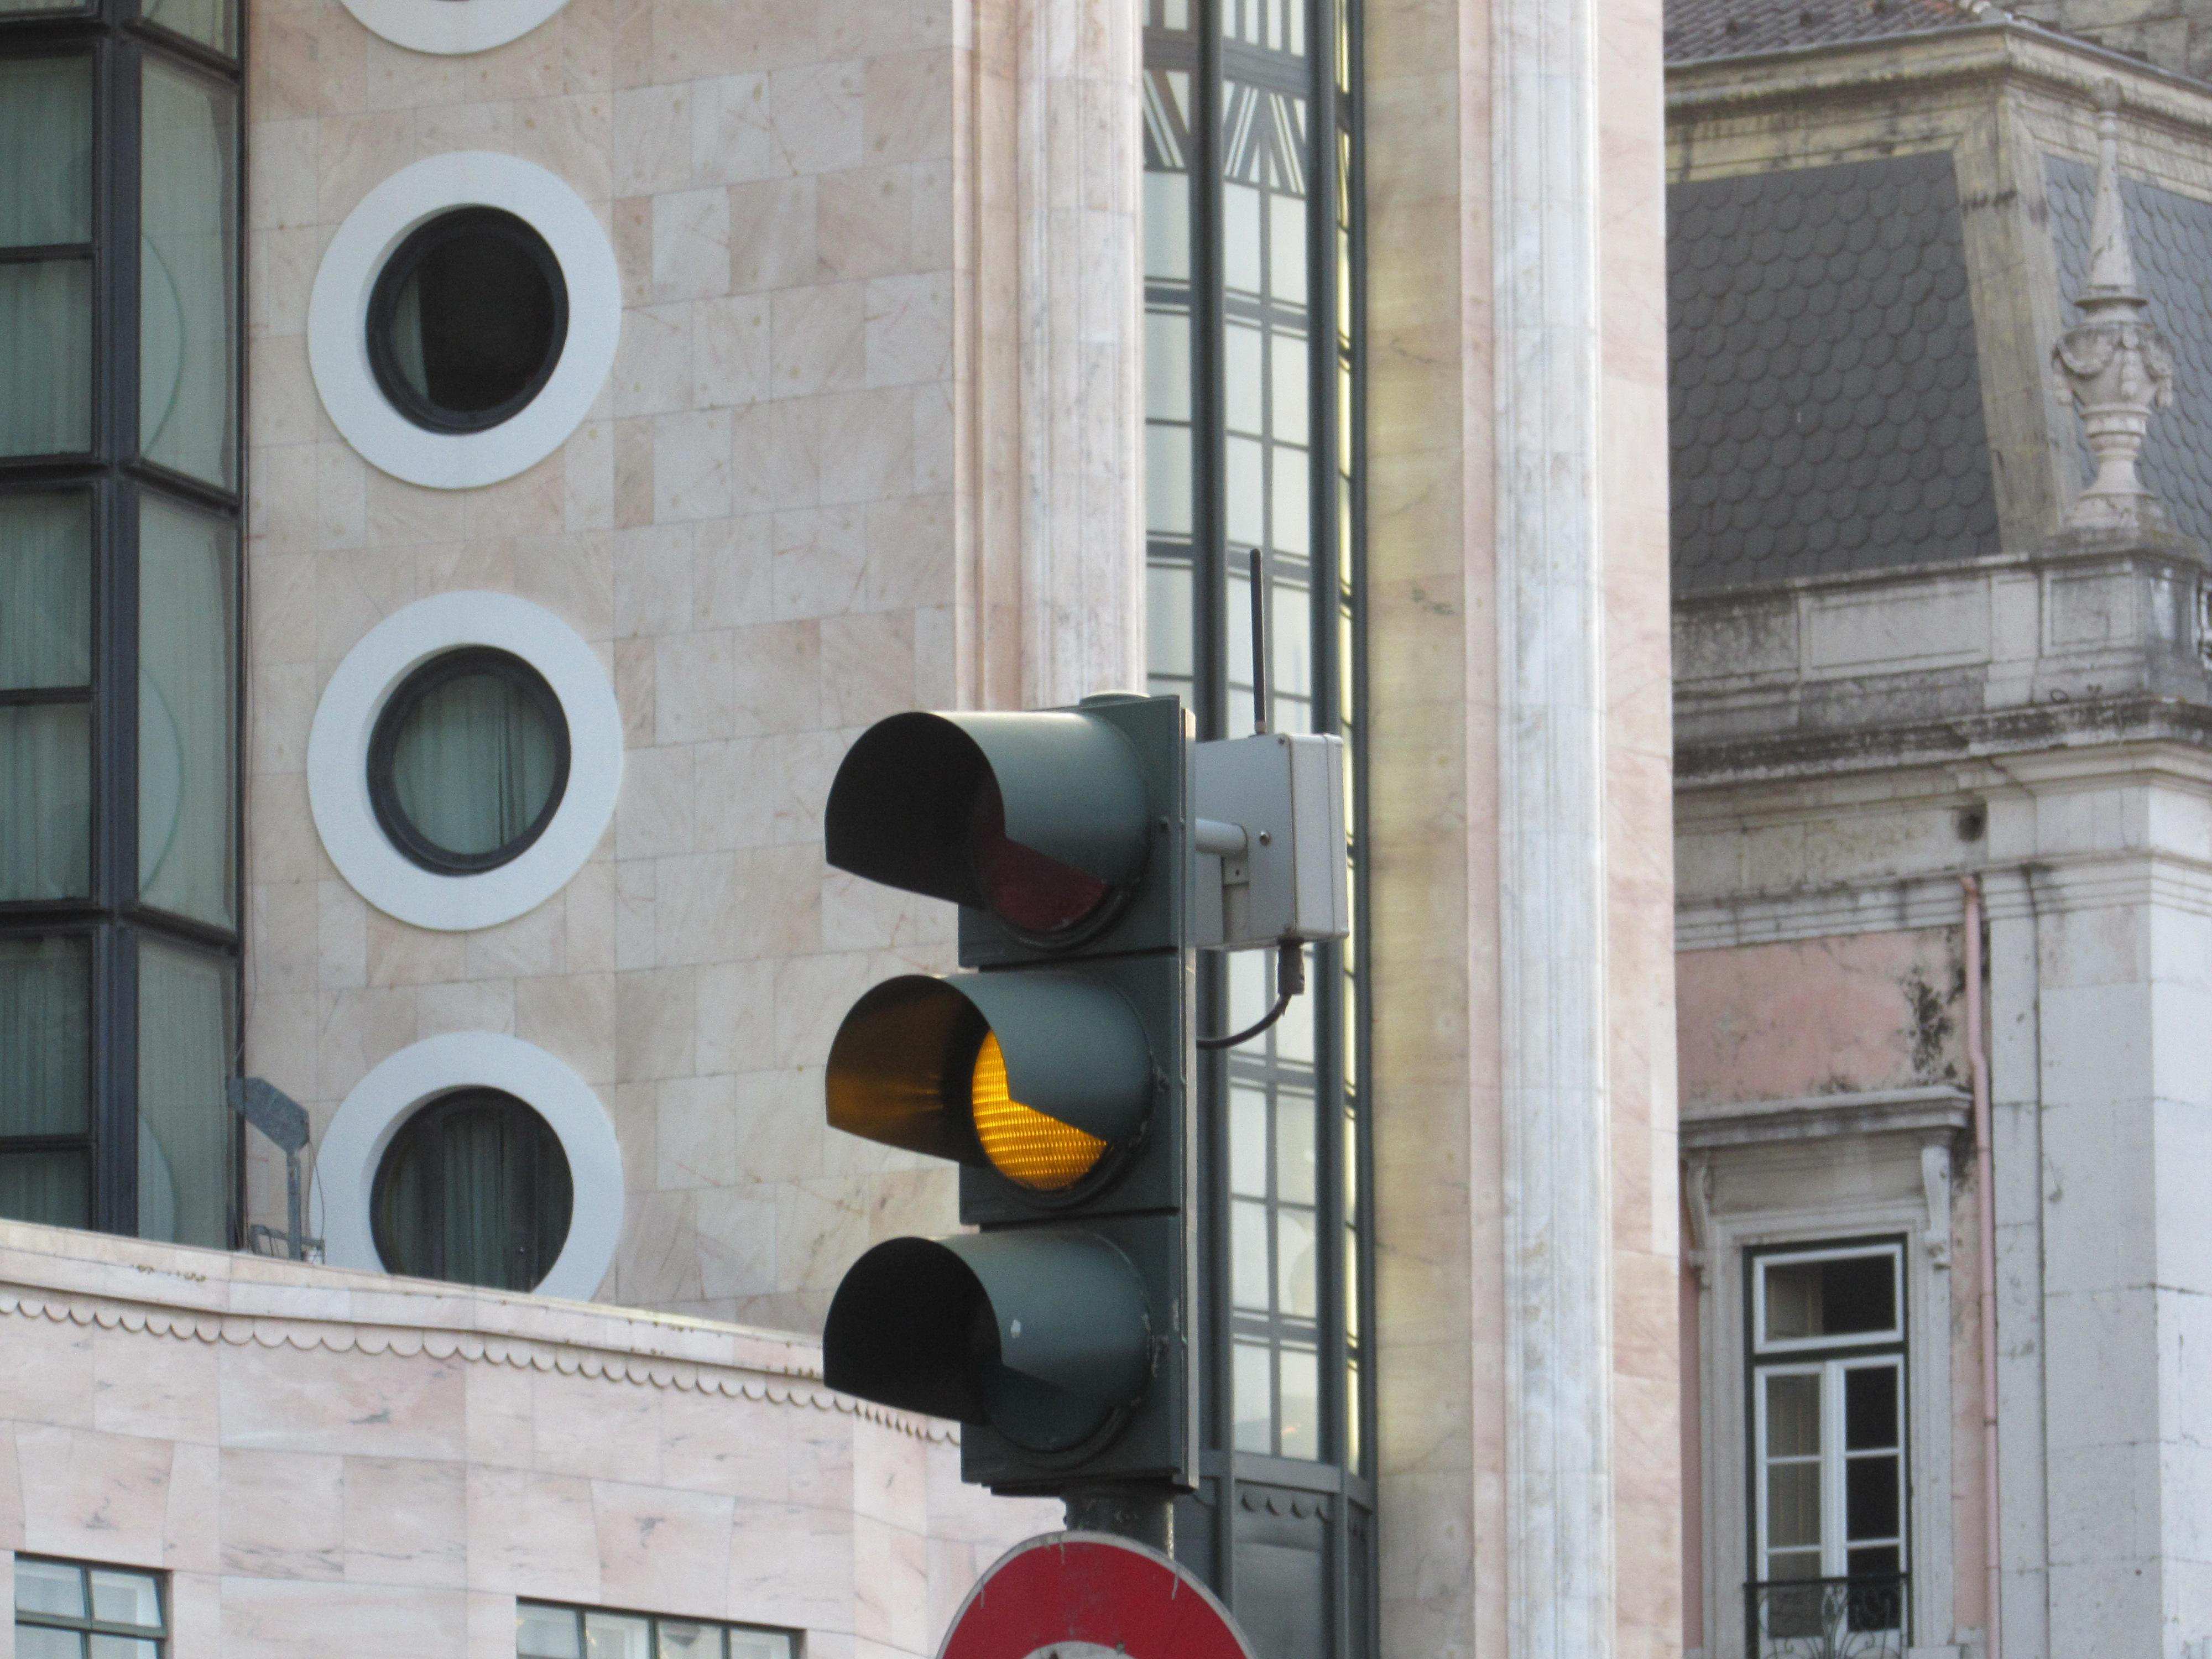yellow_light: (820, 697, 1197, 1495)
